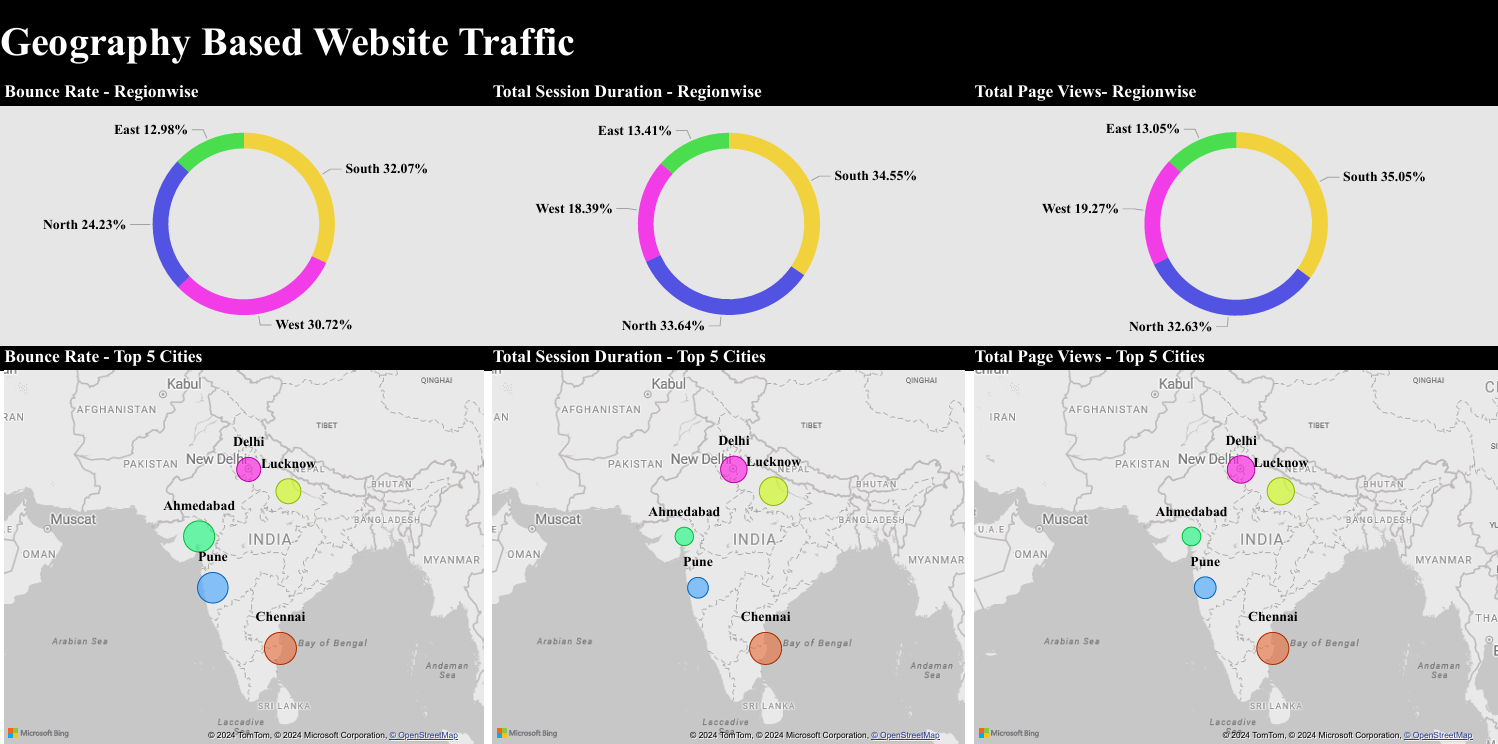

This screenshot's page, from the dashboard's own definition file:
{"tool":"powerbi","page":{"name":"Geography_Based_Website_Traffic","canvas":[1600,800],"ordinal":3},"visuals":[{"type":"shape","box":[0,0,1600.3,85.8],"z":0},{"type":"donutChart","title":"Bounce Rate - Regionwise","fields":{"Y":["#Measures.Bounce_Rate"],"Category":["website_traffic geo_lookup.Location_Region"]},"box":[0,85.8,520.4,282],"z":1000},{"type":"donutChart","title":"Total Session Duration - Regionwise","fields":{"Category":["website_traffic geo_lookup.Location_Region"],"Y":["#Measures.Total_Session_Duration"]},"box":[520.4,85.8,513.1,282],"z":2000},{"type":"donutChart","title":"Total Page Views- Regionwise","fields":{"Category":["website_traffic geo_lookup.Location_Region"],"Y":["#Measures.Total_Page_Views"]},"box":[1033.4,85.8,566.9,282],"z":3000},{"type":"map","title":"Bounce Rate - Top 5 Cities","fields":{"Category":["website_traffic geo_lookup.City"],"Size":["#Measures.Bounce_Rate"]},"box":[0,367.7,520.4,431.7],"z":4000},{"type":"map","title":"Total Session Duration - Top 5 Cities","fields":{"Category":["website_traffic geo_lookup.City"],"Size":["#Measures.Total_Session_Duration"]},"box":[520.4,367.7,513.1,431.7],"z":5000},{"type":"map","title":"Total Page Views - Top 5 Cities","fields":{"Category":["website_traffic geo_lookup.City"],"Size":["#Measures.Total_Page_Views"]},"box":[1033.4,367.7,566.9,431.7],"z":6000}]}

Visuals, with their boxes in screenshot pixels (x1, y1, x2, y2), scaled from the page's 1600x800 canvas onto the 1498x744 screenshot:
shape: (0, 0, 1497, 80)
"Bounce Rate - Regionwise" donutChart: (0, 80, 487, 342)
"Total Session Duration - Regionwise" donutChart: (487, 80, 968, 342)
"Total Page Views- Regionwise" donutChart: (968, 80, 1497, 342)
"Bounce Rate - Top 5 Cities" map: (0, 342, 487, 743)
"Total Session Duration - Top 5 Cities" map: (487, 342, 968, 743)
"Total Page Views - Top 5 Cities" map: (968, 342, 1497, 743)
